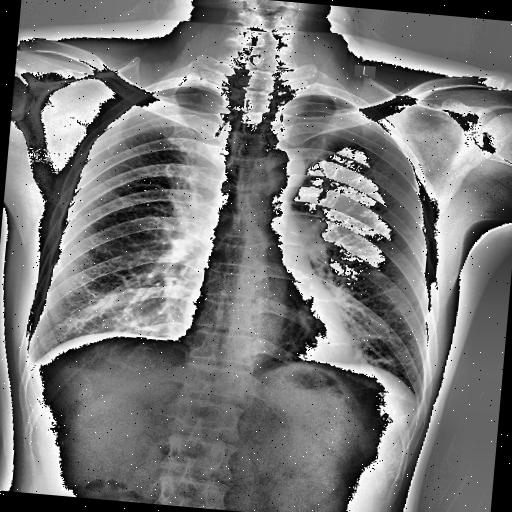10- Pleural effusion: (22, 350, 42, 370), (23, 354, 44, 370), (25, 352, 41, 372)
11- Pleural thickening: (22, 350, 42, 370), (23, 354, 44, 370), (25, 352, 41, 372)
